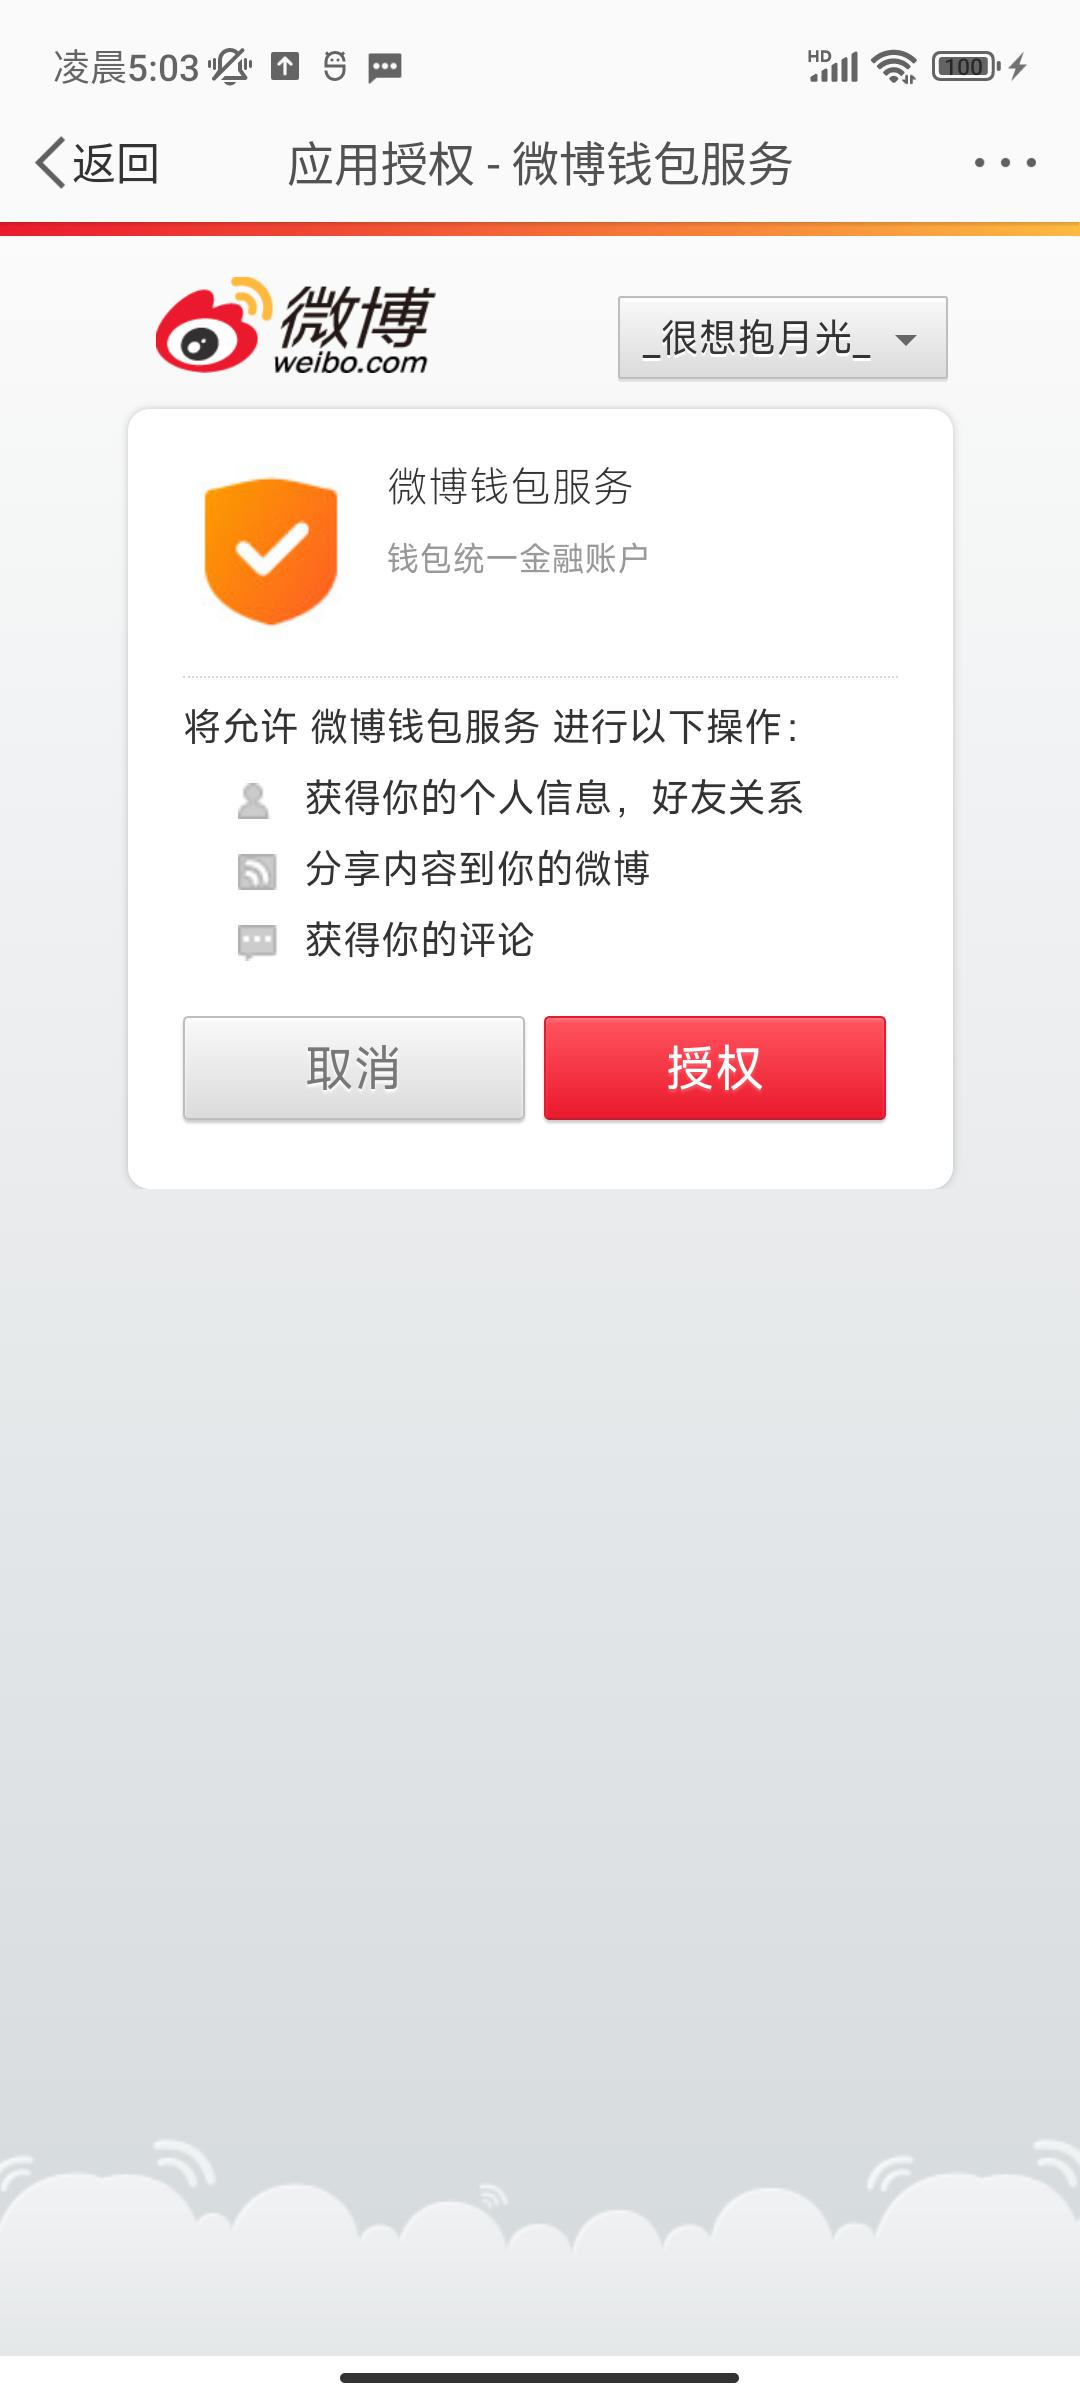ui_group: (133, 416, 939, 1174)
